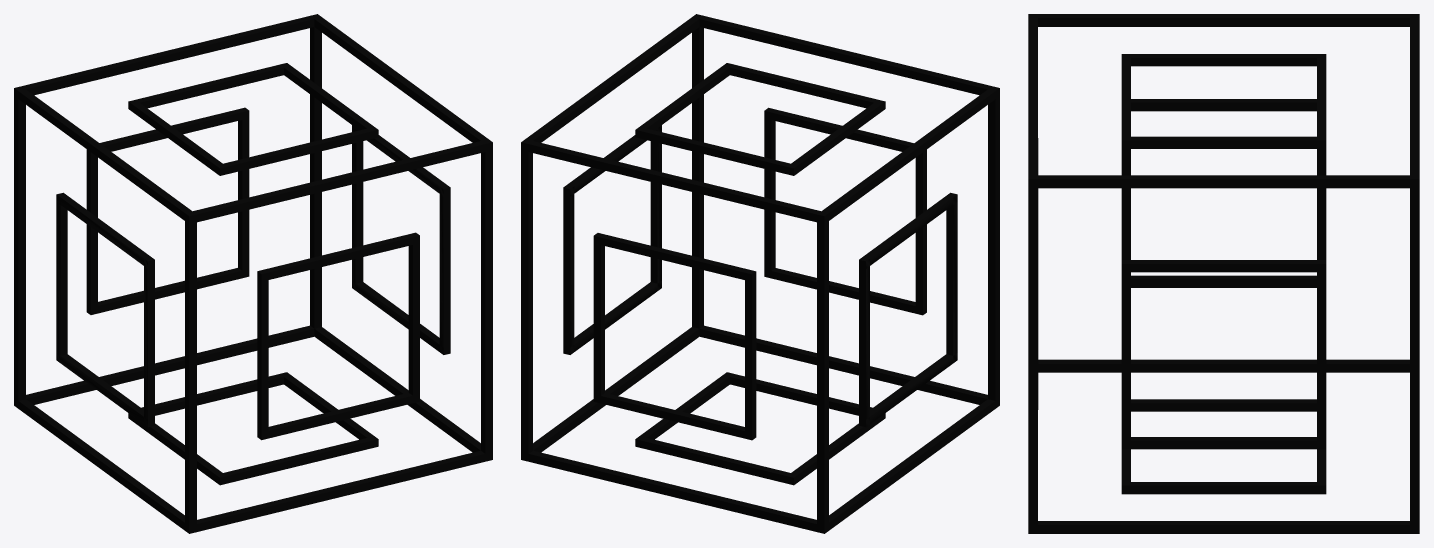
File: meguru.gltf
The picture shows the model from 3 angles, left to right: view 1: azimuth 30°, elevation 25°; view 2: azimuth 150°, elevation 25°; view 3: azimuth 270°, elevation 25°; orthographic projection. The views are drawn at different scales.
Parts seen in each view (by area): view 1: Cube; view 2: Cube; view 3: Cube.
Part boxes in pixels (x1,y1,x2,y2): Cube: (14,14,492,533); Cube: (521,14,999,533); Cube: (1028,14,1419,533).
Bounding box in the file's own units: 2 × 2 × 2.
1 material, 1 textured.
